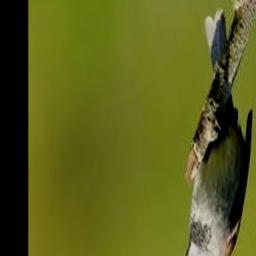Sparrow: (173, 10, 254, 256)
